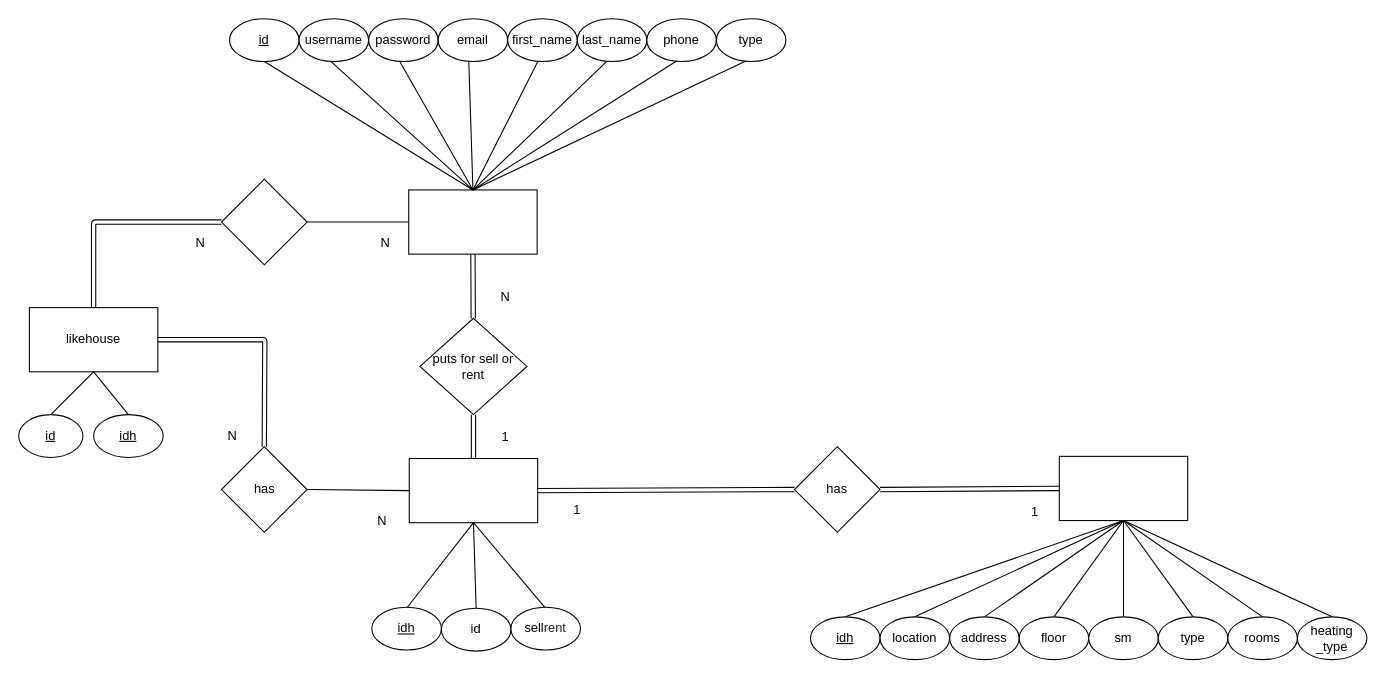
Some shapes in this 1386 by 678 pixel diagram are drawn without their labels. Each missing label, with the box of its shape:
house: (408, 457, 538, 523)
house_info: (1058, 455, 1188, 521)
likes: (220, 178, 307, 265)
users: (408, 189, 537, 254)
